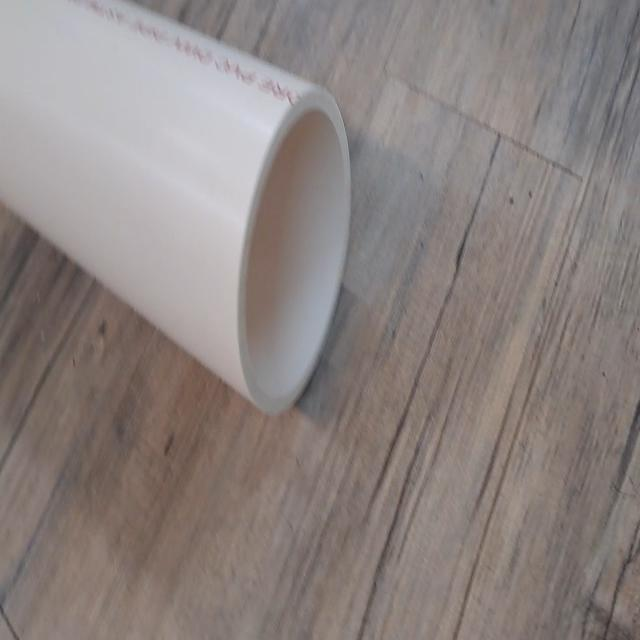CORAL: (0, 0, 358, 423)
